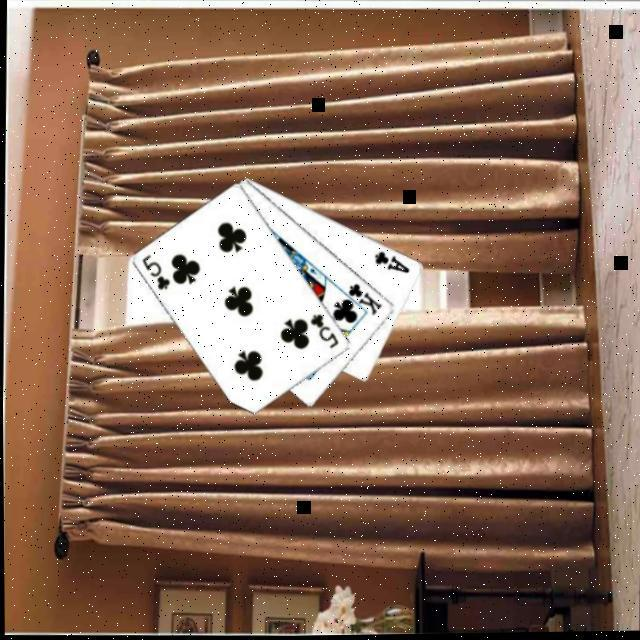5C: (136, 253, 171, 294), (304, 314, 339, 354)
AC: (370, 250, 410, 279)
KC: (336, 282, 382, 322)
